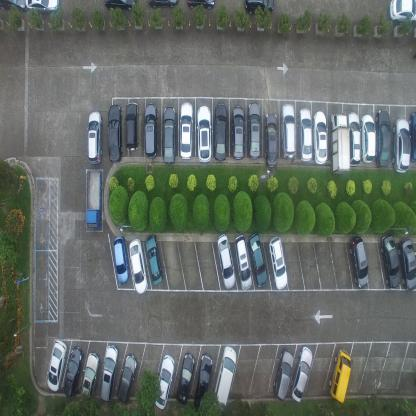car: (212, 344, 237, 408), (289, 344, 312, 404), (327, 348, 351, 403), (272, 347, 294, 402), (331, 112, 350, 175), (247, 231, 268, 288), (193, 352, 213, 410), (216, 232, 236, 288), (154, 352, 174, 408), (268, 234, 288, 289), (348, 234, 368, 289), (380, 233, 400, 288), (63, 344, 84, 396), (128, 236, 147, 293), (100, 342, 118, 401), (234, 232, 252, 290), (176, 352, 196, 404), (47, 338, 67, 390), (117, 351, 137, 402), (86, 166, 102, 229), (80, 349, 99, 402), (392, 118, 410, 173), (398, 238, 416, 291), (196, 105, 212, 164), (107, 102, 122, 164), (145, 236, 163, 286), (213, 101, 228, 161), (162, 104, 177, 164), (346, 111, 362, 167), (87, 108, 103, 164), (280, 103, 295, 162), (179, 100, 194, 159), (312, 110, 328, 165), (113, 233, 130, 284), (263, 110, 278, 167), (376, 109, 390, 169), (247, 100, 261, 160), (144, 101, 158, 159), (231, 104, 245, 160), (125, 100, 140, 152), (298, 107, 312, 162), (388, 0, 416, 26), (361, 114, 375, 163), (25, 0, 61, 14), (243, 0, 276, 14), (103, 0, 138, 12), (408, 112, 416, 162), (0, 0, 28, 14), (186, 0, 216, 12), (148, 0, 180, 8)
